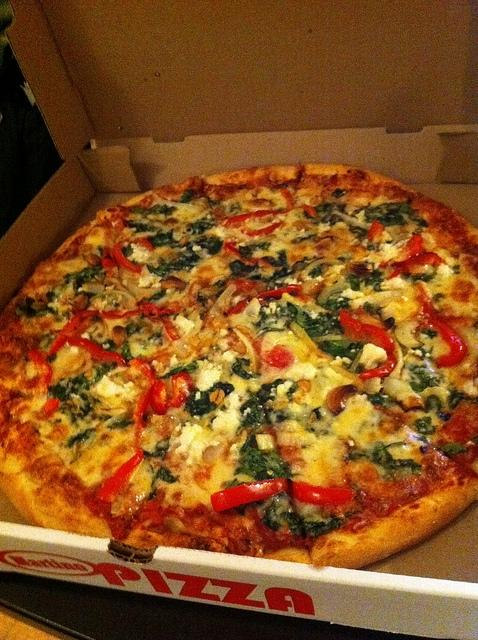bell pepper: (340, 306, 397, 380), (94, 448, 144, 502), (212, 478, 288, 512), (48, 334, 126, 366), (428, 318, 468, 368), (288, 478, 356, 506), (389, 252, 446, 279), (112, 240, 146, 274), (223, 210, 285, 228), (255, 284, 307, 302), (168, 372, 194, 408), (62, 309, 99, 332), (58, 315, 96, 337), (241, 220, 284, 237), (265, 344, 295, 368), (150, 380, 169, 416), (98, 308, 142, 319), (42, 398, 61, 412), (102, 258, 116, 270), (371, 234, 381, 244)
onion: (200, 283, 238, 331), (289, 321, 335, 360), (233, 328, 261, 374), (171, 320, 203, 358), (302, 272, 344, 294), (302, 259, 344, 280), (394, 319, 424, 348), (194, 326, 220, 359), (316, 282, 350, 306), (332, 210, 372, 230), (388, 333, 405, 380), (276, 432, 318, 448), (89, 290, 134, 304), (202, 442, 223, 463), (255, 434, 277, 453), (188, 282, 202, 308), (310, 334, 346, 344), (82, 282, 105, 294), (196, 329, 212, 340), (122, 277, 140, 286), (104, 277, 122, 286), (380, 291, 390, 298), (214, 326, 220, 332)
tomato: (340, 308, 398, 381), (95, 448, 143, 502), (49, 310, 99, 356), (67, 332, 128, 368), (430, 319, 470, 368), (288, 478, 355, 506), (386, 252, 446, 280), (221, 209, 290, 228), (248, 284, 306, 302), (168, 374, 194, 410), (113, 243, 142, 272), (241, 220, 284, 237), (150, 380, 170, 416), (367, 220, 384, 242), (223, 242, 240, 255)
